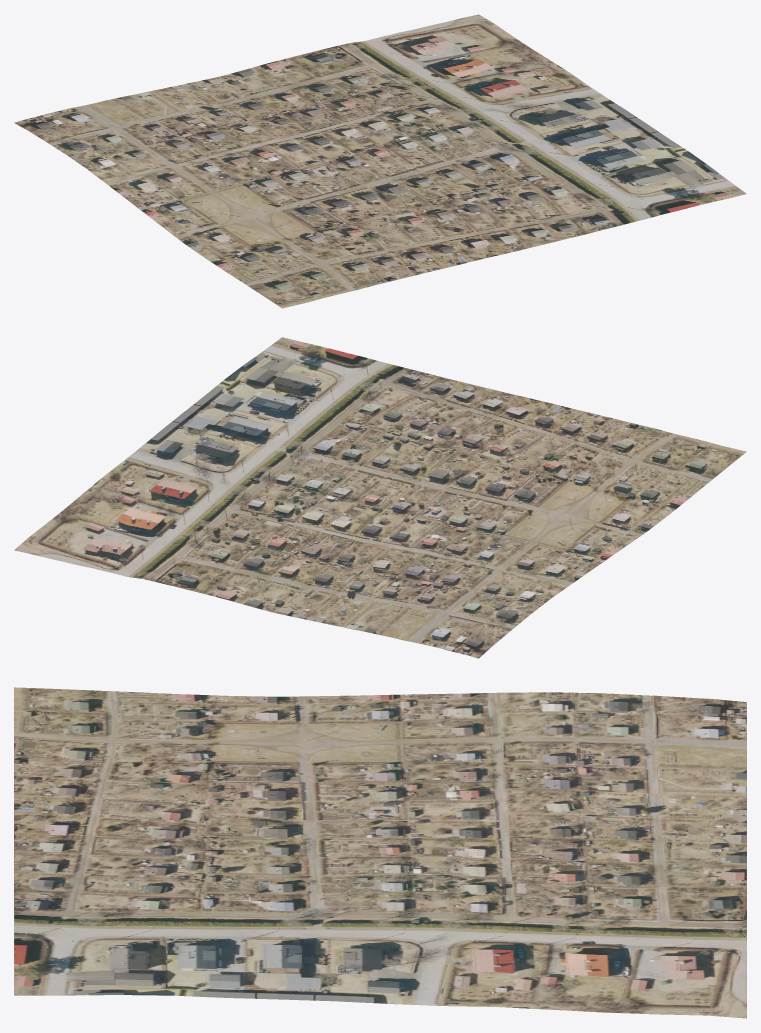
File: CM_Terrain_24490049_6818770.fbx
3 views of the same model, one above another, from view 1: azimuth 30°, elevation 25°; view 2: azimuth 150°, elevation 25°; view 3: azimuth 270°, elevation 25° (orthographic). The views are drawn at different scales.
Parts seen in each view (by area): view 1: CM_Terrain_24490049_6818770_LOD0; view 2: CM_Terrain_24490049_6818770_LOD0; view 3: CM_Terrain_24490049_6818770_LOD0.
Part boxes in pixels (x1,y1,x2,y2): CM_Terrain_24490049_6818770_LOD0: [14, 14, 746, 308]; CM_Terrain_24490049_6818770_LOD0: [14, 337, 746, 658]; CM_Terrain_24490049_6818770_LOD0: [14, 687, 746, 1018].
Size of what is drawn, in the model's own units: 205 by 7.27 by 205.
